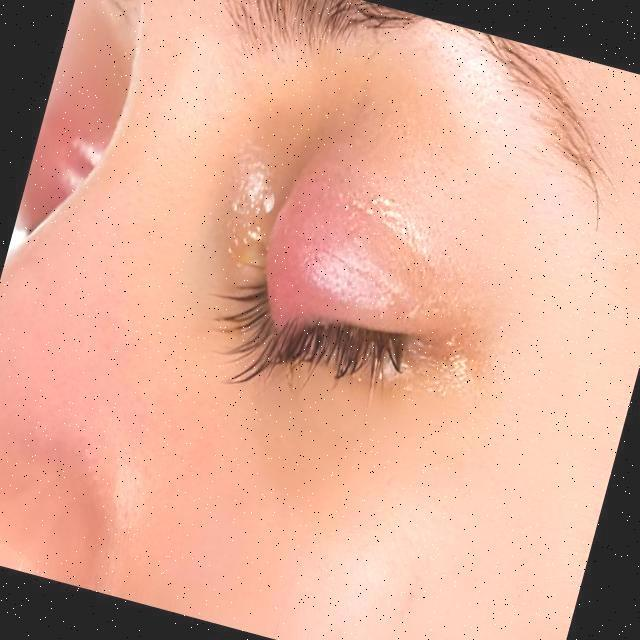Stye: (206, 142, 418, 382)
